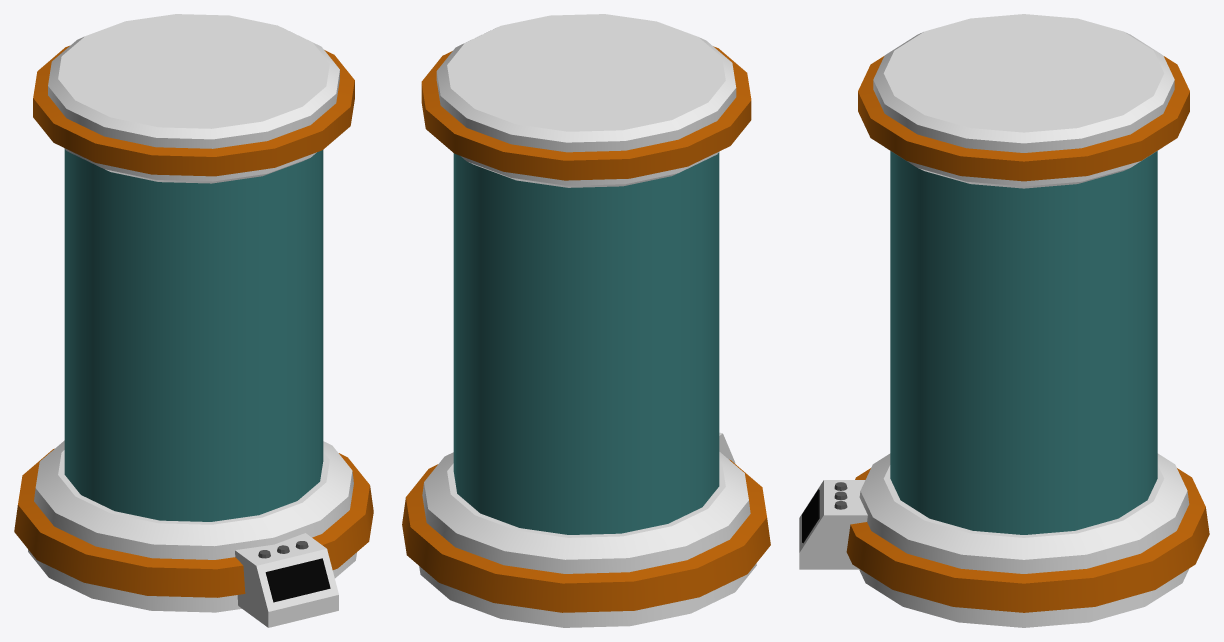
The model's file is Tank1.fbx.
The picture shows the model from 3 angles, left to right: view 1: azimuth 30°, elevation 25°; view 2: azimuth 150°, elevation 25°; view 3: azimuth 270°, elevation 25°; orthographic projection. The views are drawn at different scales.
Parts seen in each view (by area): view 1: pCube3; view 2: pCube3; view 3: pCube3.
Boxes of the visible parts, box(x1,y1,x2,y2) form: pCube3: box(14, 14, 373, 627); pCube3: box(402, 14, 770, 627); pCube3: box(799, 14, 1209, 627).
Bounding box in the file's own units: 222 × 246 × 318.
